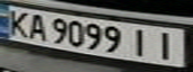0: (66, 18, 84, 48)
9: (81, 20, 106, 52), (103, 22, 127, 55), (45, 16, 69, 45)
A: (24, 11, 48, 42)
I: (148, 29, 184, 61), (127, 26, 157, 57)
K: (3, 7, 33, 38)
